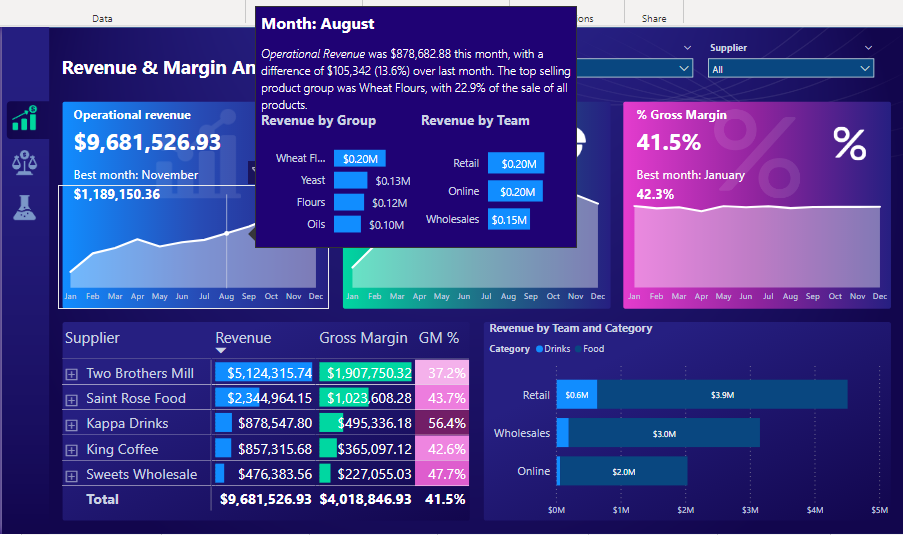

The dashboard page shown, as its layout file describes it:
{"tool":"powerbi","page":{"name":"Revenue & Margin","canvas":[1280,720],"ordinal":0},"visuals":[{"type":"barChart","fields":{"Category":["Revenue.Team"],"Y":["Revenue.Revenue"],"Series":["Product.Category"]},"box":[688,416,576,288],"z":0},{"type":"pivotTable","fields":{"Rows":["Product.Supplier","Product.Group"],"Values":["Revenue.Revenue","Revenue.Gross Margin","Revenue.GM %"]},"box":[80,416,592,288],"z":1000},{"type":"multiRowCard","title":"Operational revenue","fields":{"Values":["Revenue.Revenue"]},"box":[96,112,368,80],"z":2000},{"type":"areaChart","fields":{"Y":["Revenue.Revenue"],"Category":["Date.MonthName"]},"box":[80,224,384,176],"z":3000},{"type":"multiRowCard","title":"Operational revenue","fields":{"Values":["KeyMeasures.Title Best Month","Revenue.Revenue"]},"box":[96,192,368,80],"z":4000},{"type":"textbox","box":[80,32,384,64],"z":5000},{"type":"slicer","fields":{"Values":["Date.Date.Variation.Date Hierarchy.Month"]},"box":[480,16,256,80],"z":6000},{"type":"slicer","fields":{"Values":["Revenue.Team"]},"box":[736,16,256,80],"z":7000},{"type":"slicer","fields":{"Values":["Product.Supplier"]},"box":[992,16,256,80],"z":8000},{"type":"multiRowCard","title":"Gross Margin","fields":{"Values":["KeyMeasures.Gross Margin"]},"box":[496,112,368,80],"z":9000},{"type":"areaChart","fields":{"Category":["Date.MonthName"],"Y":["KeyMeasures.Gross Margin"]},"box":[480,224,384,176],"z":10000},{"type":"multiRowCard","title":"Operational revenue","fields":{"Values":["KeyMeasures.Title Best Month","KeyMeasures.Gross Margin"]},"box":[496,192,368,80],"z":11000},{"type":"multiRowCard","title":"% Gross Margin","fields":{"Values":["KeyMeasures.GM %"]},"box":[896,112,368,80],"z":12000},{"type":"multiRowCard","title":"Operational revenue","fields":{"Values":["KeyMeasures.Title Best Month","KeyMeasures.GM %"]},"box":[896,192,368,80],"z":13000},{"type":"areaChart","fields":{"Category":["Date.MonthName"],"Y":["KeyMeasures.GM %"]},"box":[880,240,384,160],"z":14000},{"type":"image","box":[0,96,64,64],"z":15000},{"type":"image","box":[0,160,64,64],"z":16000},{"type":"image","box":[0,224,64,64],"z":17000}]}

Visuals, with their boxes on the page's 1280x720 design canvas (x1, y1, x2, y2). These are canvas units, not pixel positions in the 903x535 screenshot, which may show the page scaled, cropped or inside an application window:
barChart - Revenue.Team x Revenue.Revenue: rect(688, 416, 1264, 704)
pivotTable - Product.Supplier x Product.Group: rect(80, 416, 672, 704)
"Operational revenue" multiRowCard: rect(96, 112, 464, 192)
areaChart - Revenue.Revenue x Date.MonthName: rect(80, 224, 464, 400)
"Operational revenue" multiRowCard: rect(96, 192, 464, 272)
textbox: rect(80, 32, 464, 96)
slicer - Date.Date.Variation.Date Hierarchy.Month: rect(480, 16, 736, 96)
slicer - Revenue.Team: rect(736, 16, 992, 96)
slicer - Product.Supplier: rect(992, 16, 1248, 96)
"Gross Margin" multiRowCard: rect(496, 112, 864, 192)
areaChart - Date.MonthName x KeyMeasures.Gross Margin: rect(480, 224, 864, 400)
"Operational revenue" multiRowCard: rect(496, 192, 864, 272)
"% Gross Margin" multiRowCard: rect(896, 112, 1264, 192)
"Operational revenue" multiRowCard: rect(896, 192, 1264, 272)
areaChart - Date.MonthName x KeyMeasures.GM %: rect(880, 240, 1264, 400)
image: rect(0, 96, 64, 160)
image: rect(0, 160, 64, 224)
image: rect(0, 224, 64, 288)
